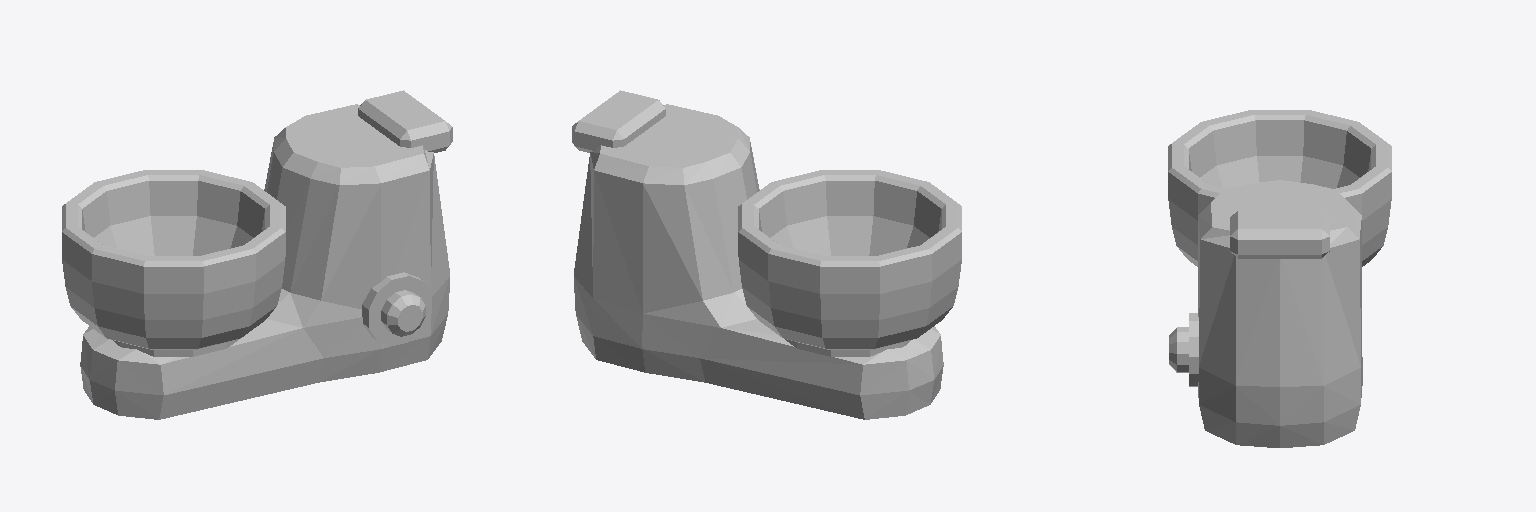
Rendered from stand_mixer.obj.
3 renders of one model, left to right at view 1: azimuth 30°, elevation 25°; view 2: azimuth 150°, elevation 25°; view 3: azimuth 270°, elevation 25°, orthographic.
Visible parts, largest first — view 1: stand_mixer; view 2: stand_mixer; view 3: stand_mixer.
Boxes of the visible parts, x1=… form: stand_mixer: x1=62, y1=90, x2=452, y2=419; stand_mixer: x1=572, y1=90, x2=961, y2=419; stand_mixer: x1=1168, y1=110, x2=1391, y2=447.
Size of the model in its own units: 1.02 by 0.5921 by 0.55.